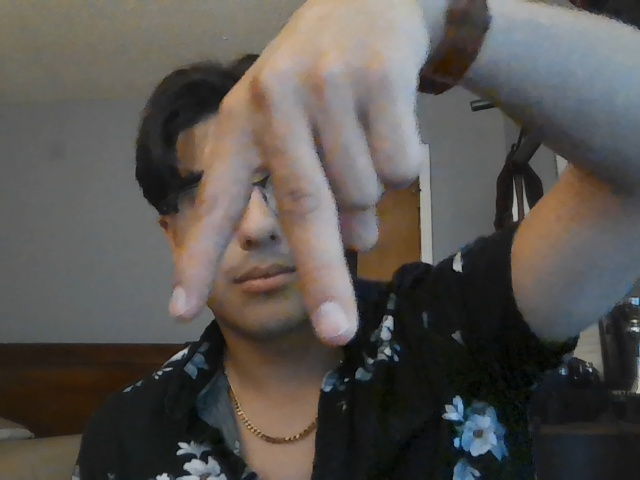Upside-down peace sign: (168, 85, 360, 347)
